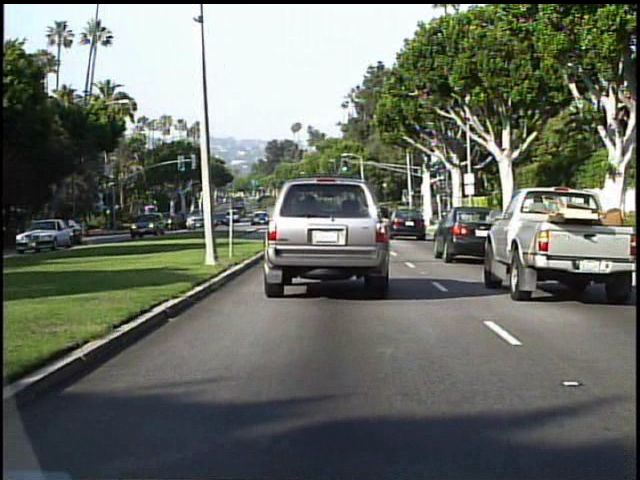person: (70, 215, 85, 238)
